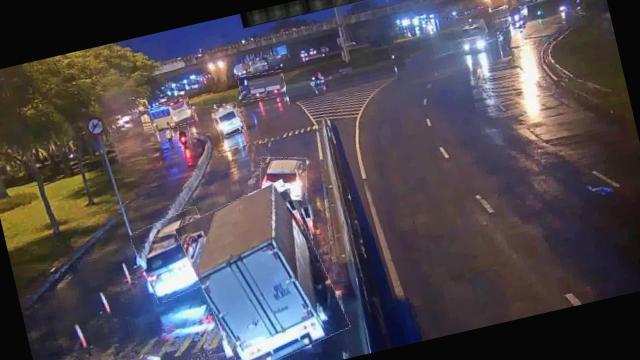Bike: (177, 126, 193, 150)
Bus: (146, 96, 195, 133), (211, 102, 245, 138)
Car: (130, 207, 224, 303), (254, 150, 313, 206), (38, 341, 178, 360)
Truck: (178, 178, 347, 360), (236, 68, 287, 106)
